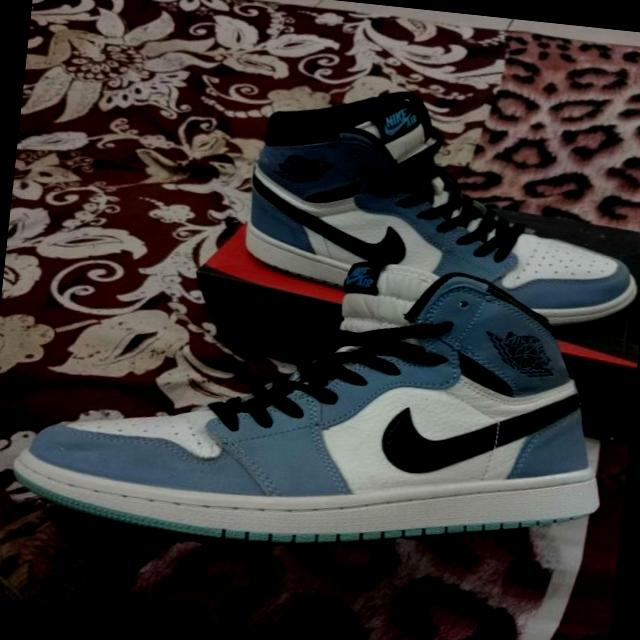nike_fake_jordan: (8, 225, 626, 580), (230, 73, 640, 341)
